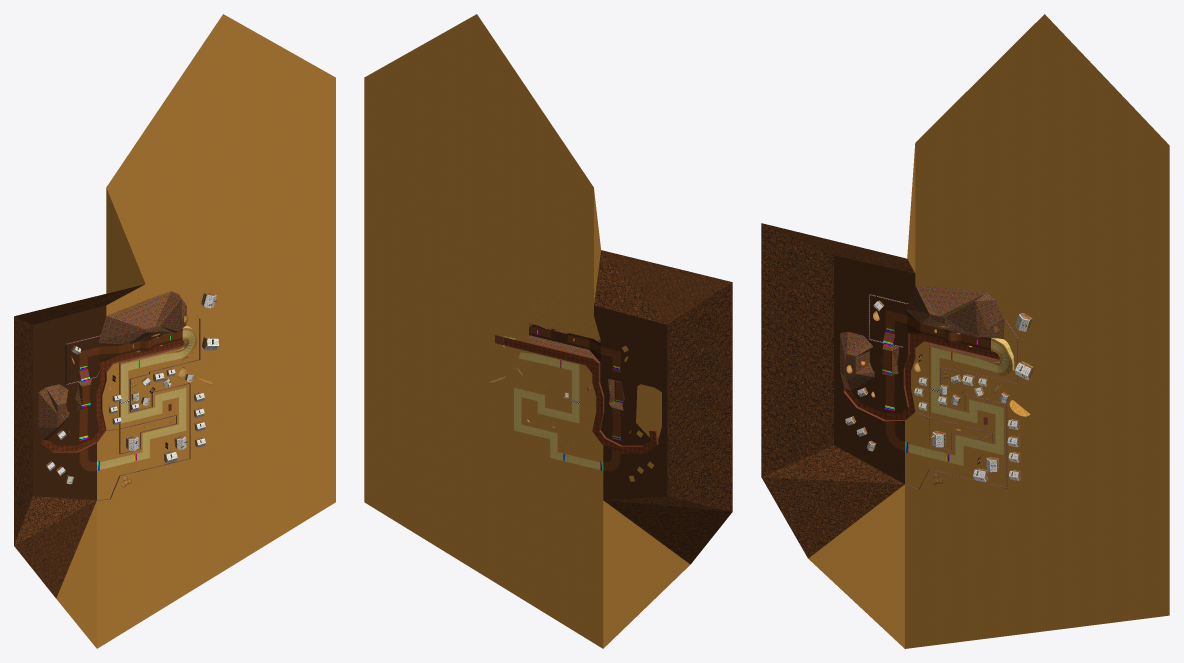
The picture shows the model from 3 angles, left to right: view 1: azimuth 30°, elevation 25°; view 2: azimuth 150°, elevation 25°; view 3: azimuth 330°, elevation 25°; orthographic projection. The views are drawn at different scales.
Visible parts, largest first — view 1: cookievillage_SKP__BiggerOffroad, cookievillage_SKP__Chocolateoffroad, cookievillage_SKP__Chocomountainwall, cookievillage_SKP__Road, cookievillage_SKP__house_roof, cookievillage_SKP__Chocolate_River, cookievillage_SKP__Fence, cookievillage_SKP__Chocolate_Road; view 2: cookievillage_SKP__BiggerOffroad, cookievillage_SKP__Chocolateoffroad, cookievillage_SKP__Offroad, cookievillage_SKP__Road, cookievillage_SKP__Chocolate_River, cookievillage_SKP__Chocolate_Road, cookievillage_SKP__Chocomountainwall, cookievillage_SKP__Chocowall; view 3: cookievillage_SKP__BiggerOffroad, cookievillage_SKP__Chocolateoffroad, cookievillage_SKP__Chocomountainwall, cookievillage_SKP__Road, cookievillage_SKP__house_roof, cookievillage_SKP__Chocolate_River, cookievillage_SKP__Fence, cookievillage_SKP__Chocolate_Road.
Boxes of the visible parts, x1,y1,x2,y2 form: cookievillage_SKP__BiggerOffroad: (56, 14, 335, 648); cookievillage_SKP__Chocolateoffroad: (14, 284, 182, 598); cookievillage_SKP__Chocomountainwall: (38, 291, 187, 439); cookievillage_SKP__Road: (100, 351, 186, 470); cookievillage_SKP__house_roof: (47, 295, 218, 484); cookievillage_SKP__Chocolate_River: (41, 340, 184, 451); cookievillage_SKP__Fence: (65, 315, 200, 500); cookievillage_SKP__Chocolate_Road: (79, 330, 182, 459); cookievillage_SKP__BiggerOffroad: (364, 14, 690, 648); cookievillage_SKP__Chocolateoffroad: (529, 250, 732, 564); cookievillage_SKP__Offroad: (486, 291, 661, 487); cookievillage_SKP__Road: (513, 351, 600, 470); cookievillage_SKP__Chocolate_River: (503, 337, 656, 453); cookievillage_SKP__Chocolate_Road: (529, 325, 622, 459); cookievillage_SKP__Chocomountainwall: (529, 323, 624, 410); cookievillage_SKP__Chocowall: (495, 335, 658, 446); cookievillage_SKP__BiggerOffroad: (808, 14, 1169, 648); cookievillage_SKP__Chocolateoffroad: (761, 223, 990, 558); cookievillage_SKP__Chocomountainwall: (840, 285, 1004, 390); cookievillage_SKP__Road: (908, 346, 1004, 466); cookievillage_SKP__house_roof: (845, 301, 1030, 482); cookievillage_SKP__Chocolate_River: (845, 333, 999, 419); cookievillage_SKP__Fence: (868, 294, 1018, 490); cookievillage_SKP__Chocolate_Road: (883, 310, 990, 431).
Size of the model in its own units: 145766 by 243817 by 19980.
25 materials, 25 textured.
